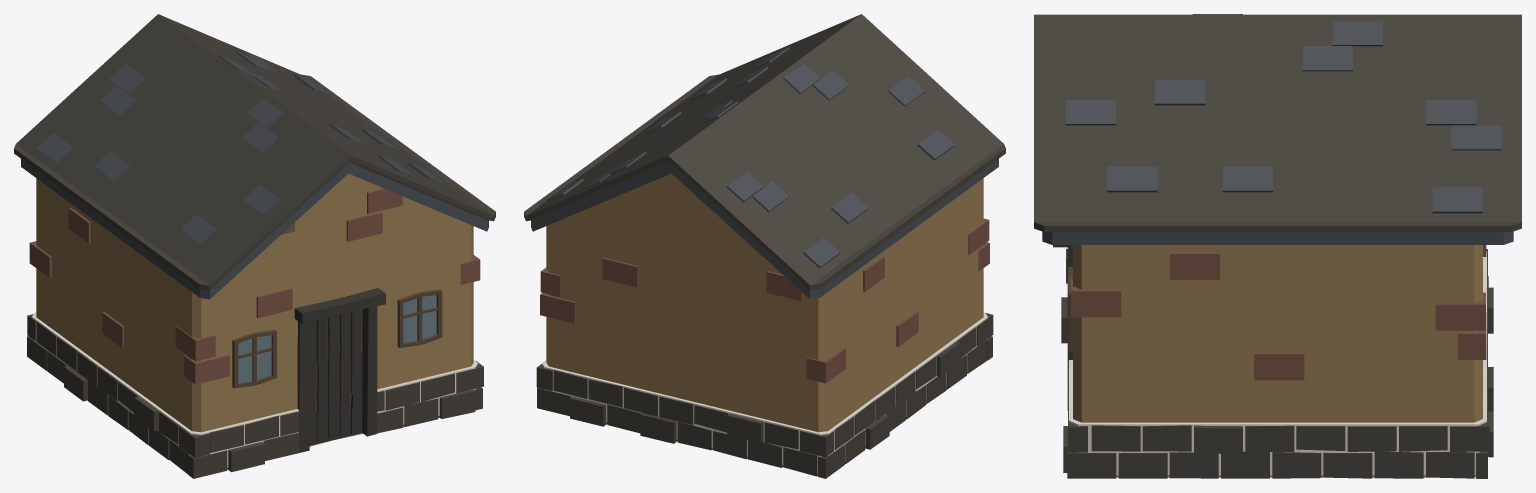
Rendered from london-terrace-d.glb.
The picture shows the model from 3 angles, left to right: view 1: azimuth 30°, elevation 25°; view 2: azimuth 150°, elevation 25°; view 3: azimuth 270°, elevation 25°; orthographic projection. The views are drawn at different scales.
Bounding box in the file's own units: 2.11 × 2.02 × 2.38.
